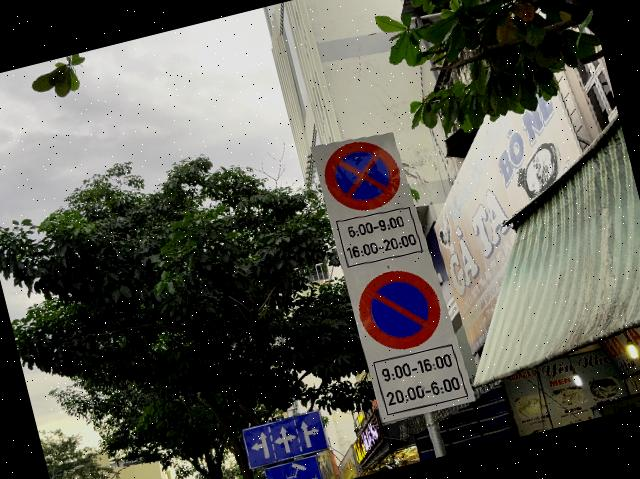cam-do-xe: (352, 261, 449, 358)
cam-dung-va-do-xe: (318, 134, 406, 220)
